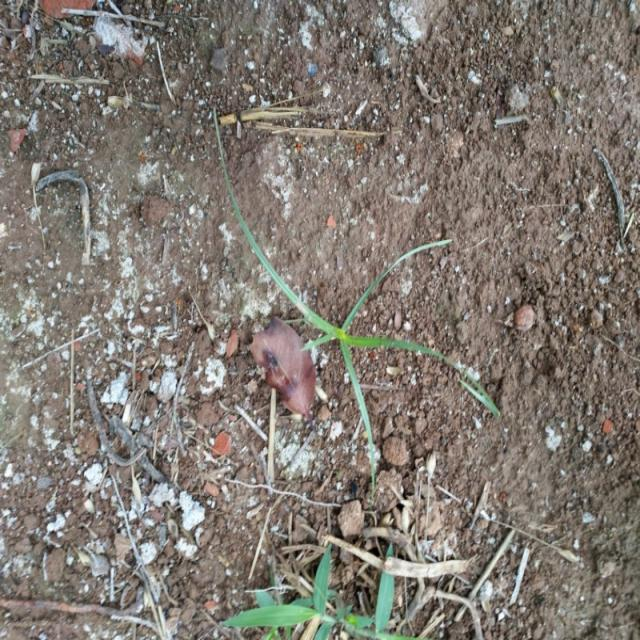sedge: (222, 185, 518, 480)
